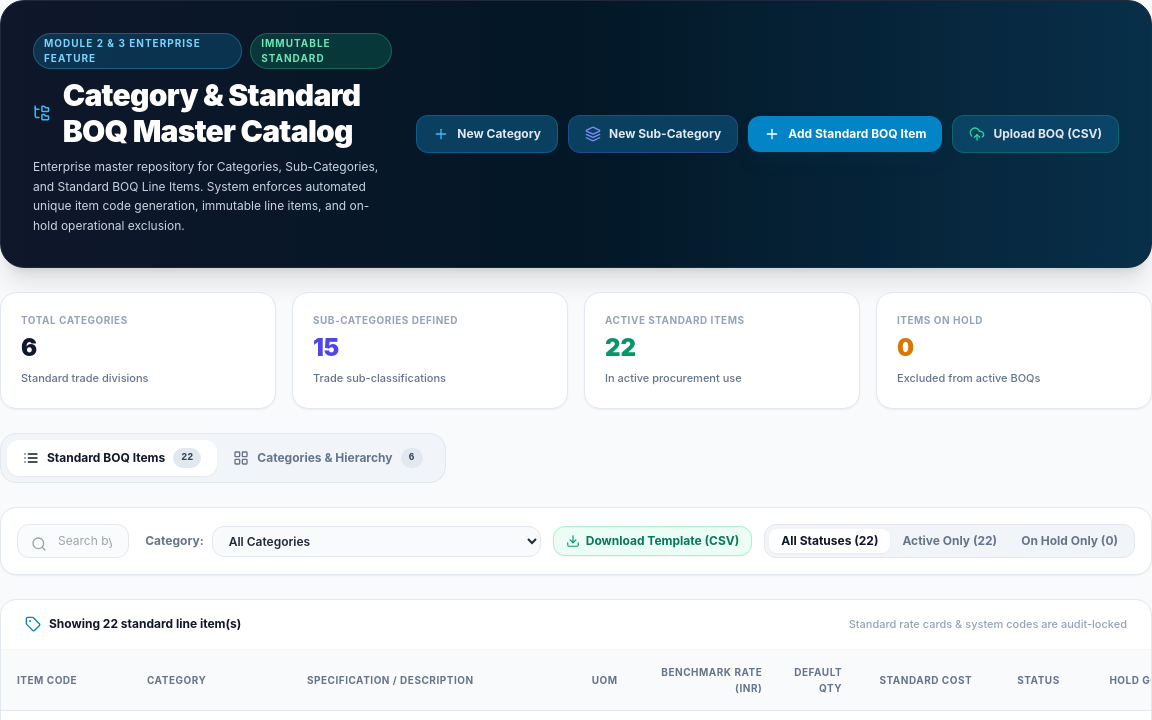
it: CategoryStandardBOQMaster & Master Catalog Governance › Standard BOQ CSV Upload Integration › allows switching from AddStandardBOQItemModal to StandardBOQUploadModal
# Open Add Standard BOQ Item modal
Click the button "Add Standard BOQ Item" at point(845, 134), box [748,116,942,152]
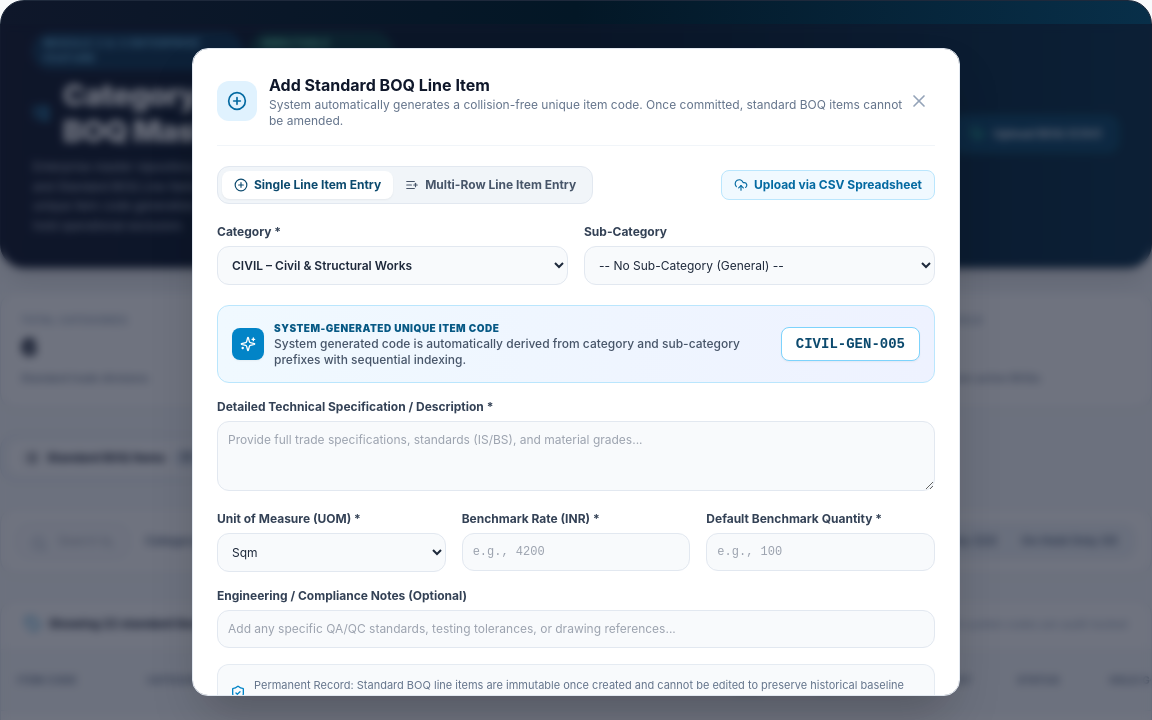
Check: the heading "Add Standard BOQ Line Item" is shown, box [269,75,490,95]
# Click "Switch to Bulk CSV Upload" button
Click the button "Upload via CSV Spreadsheet" at point(828, 185), box [721,170,935,200]
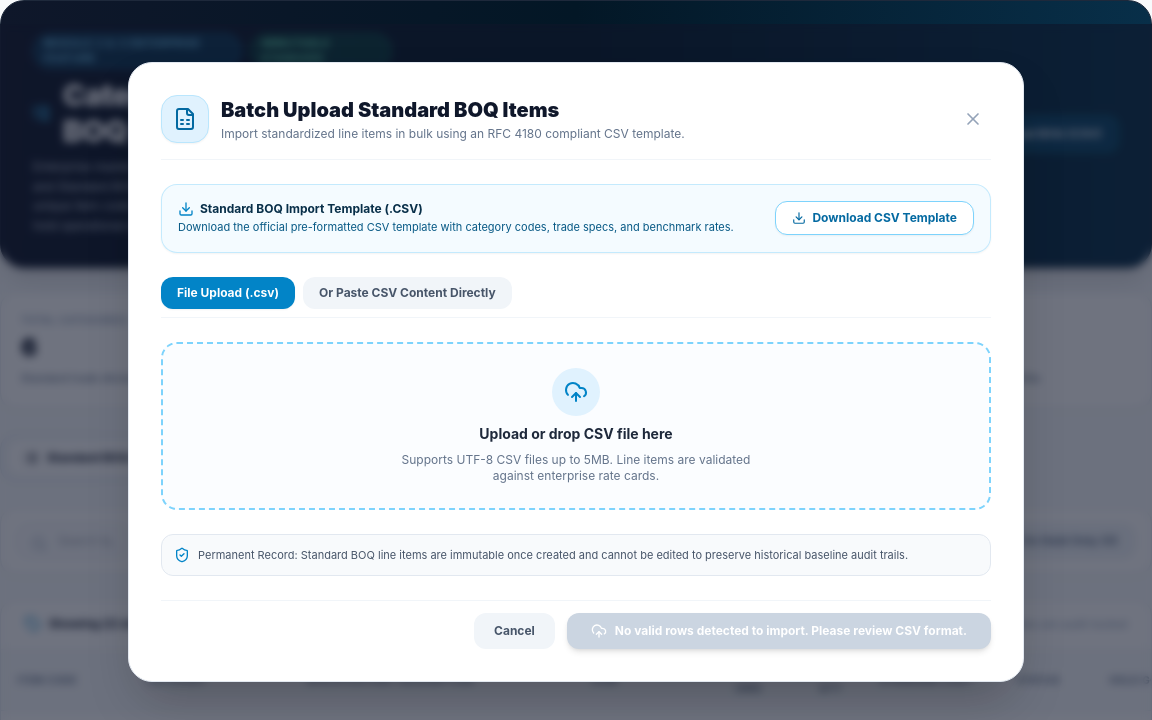
Check: the heading "Add Standard BOQ Line Item" is gone
Check: the heading "Batch Upload Standard BOQ Items" is shown, box [221,98,559,122]
